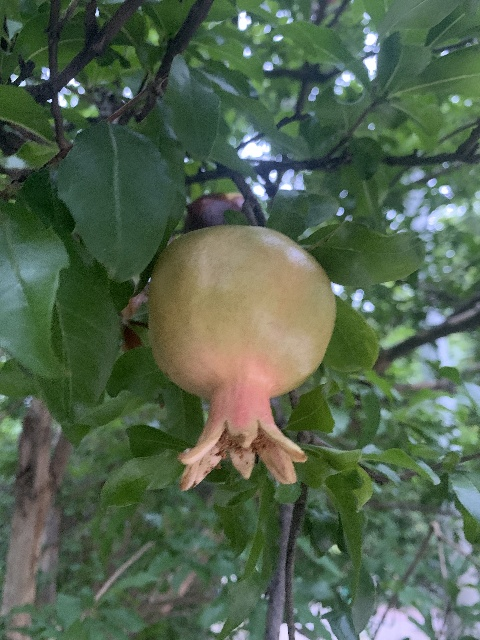mid-growth: (146, 224, 337, 490)
